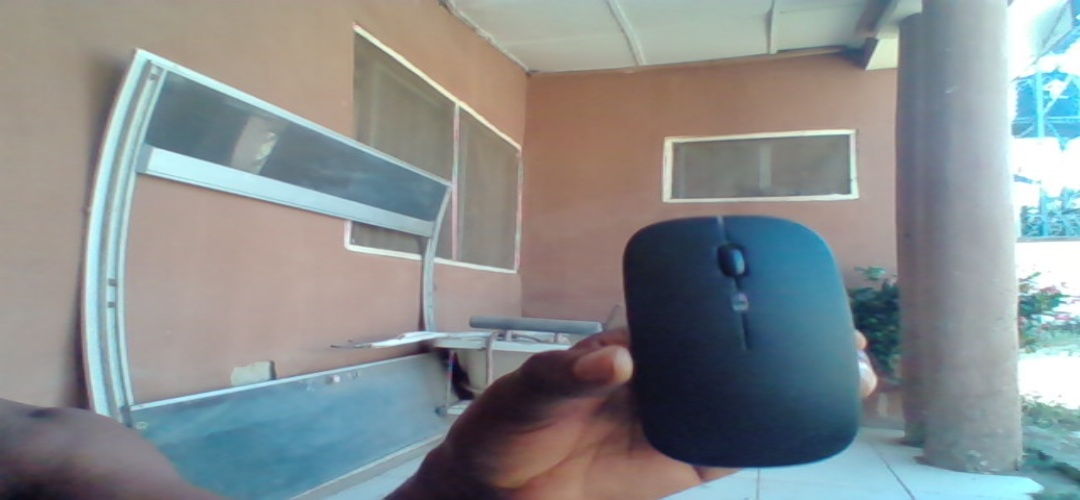wireless_mouse: (614, 213, 860, 469)
